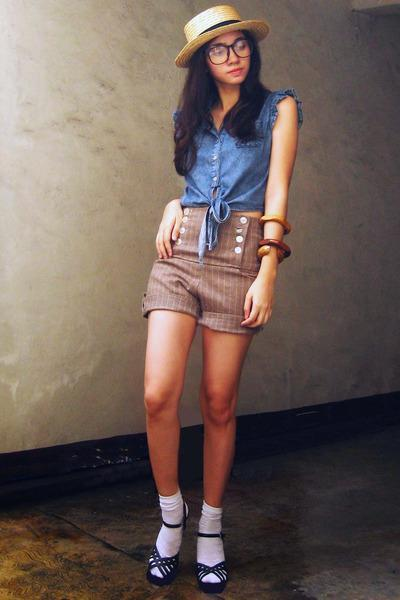hat: (170, 0, 261, 80)
shirt: (179, 84, 281, 221)
shoe: (151, 540, 225, 599)
skirt: (144, 209, 275, 582)
